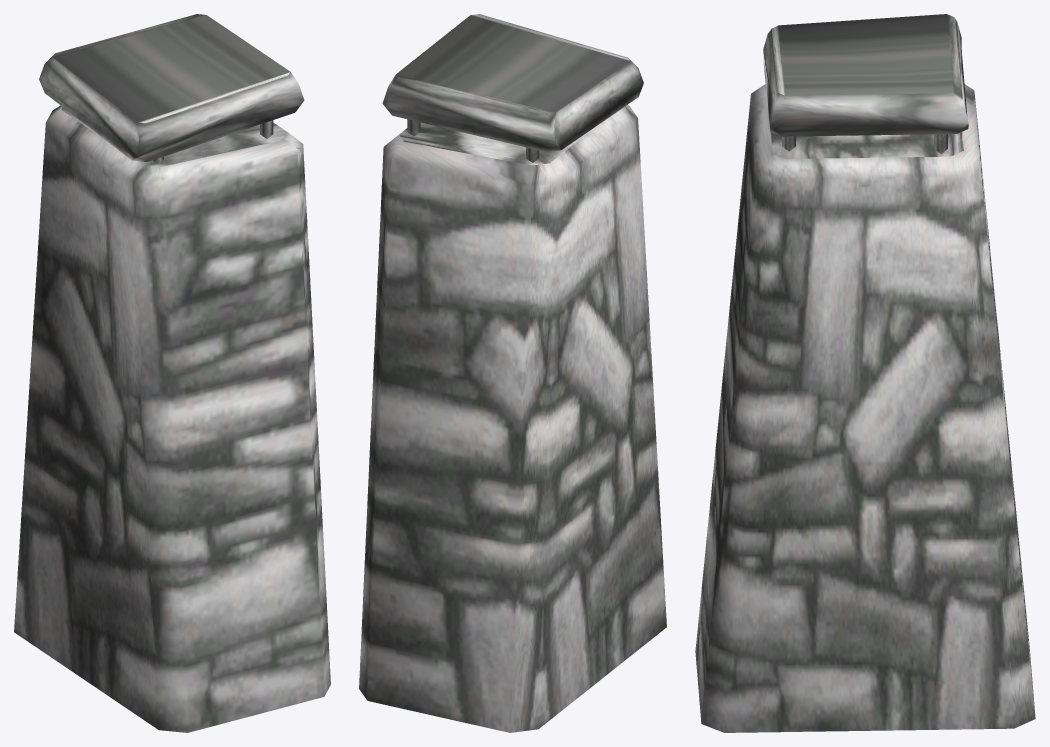
The model's file is HTOWN01_GREENDRAGCHIM2.fbx.
3 views of the same model, side by side, from view 1: azimuth 30°, elevation 25°; view 2: azimuth 150°, elevation 25°; view 3: azimuth 270°, elevation 25° (orthographic). The views are drawn at different scales.
Parts seen in each view (by area): view 1: HTOWN01_GREENDRAGCHIM2; view 2: HTOWN01_GREENDRAGCHIM2; view 3: HTOWN01_GREENDRAGCHIM2.
Part boxes in pixels (bbox=[...]): HTOWN01_GREENDRAGCHIM2: bbox=[14, 14, 330, 732]; HTOWN01_GREENDRAGCHIM2: bbox=[359, 14, 666, 732]; HTOWN01_GREENDRAGCHIM2: bbox=[695, 14, 1035, 732].
Size of the model in its own units: 8543 by 26383 by 12888.
Materials: 1 (1 with a texture image).
